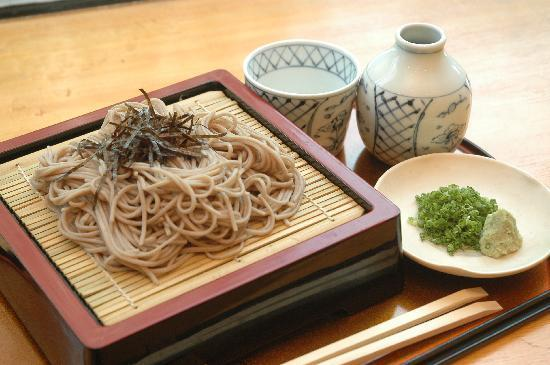Soba: (27, 93, 308, 285)
